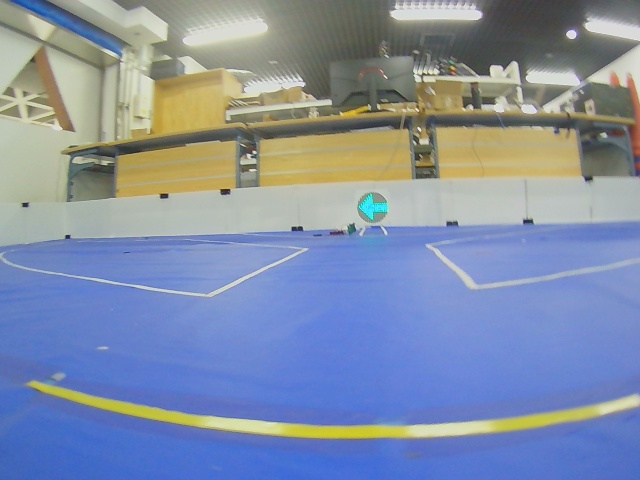left_green: (358, 192, 388, 223)
